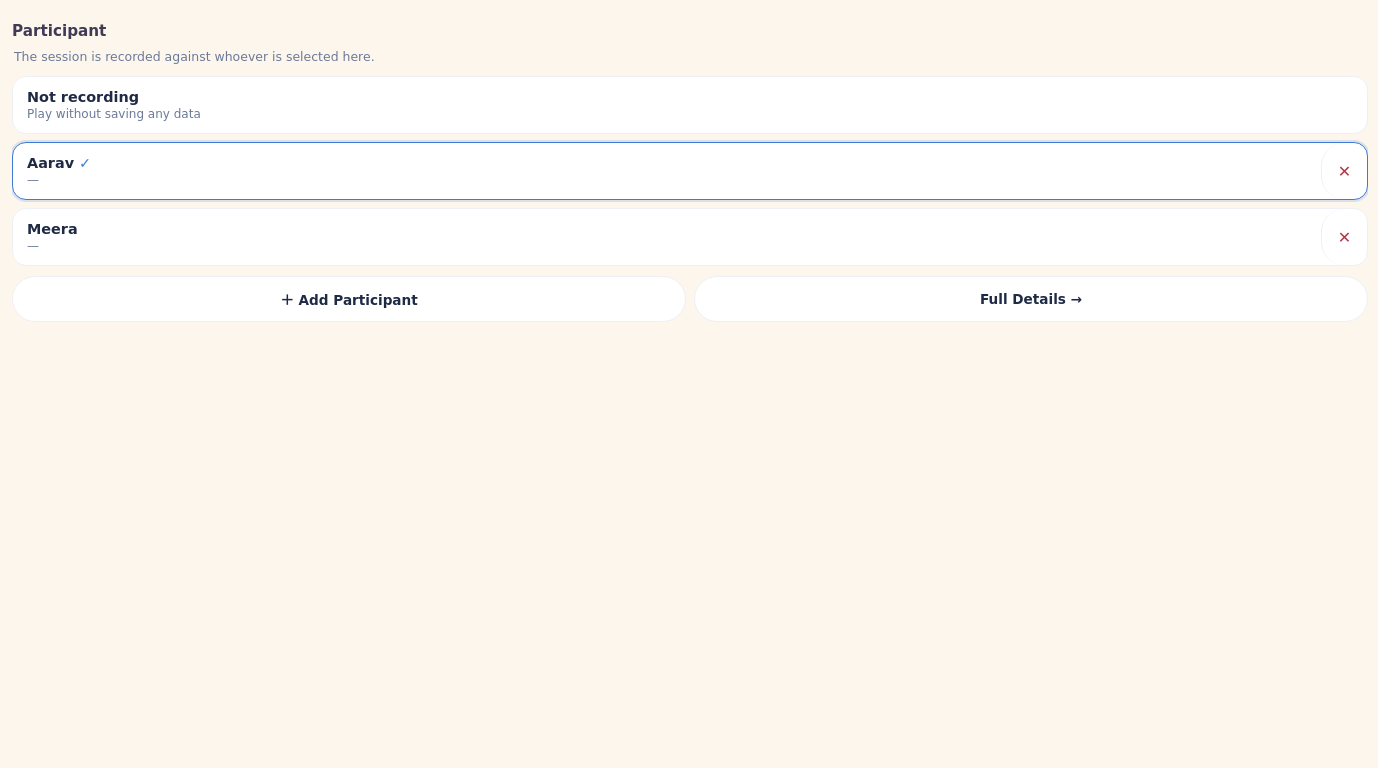
Test: adding a participant mid-session › will not save an empty name
Click the button "＋ Add participant" at (349, 299), box [12,276,686,322]
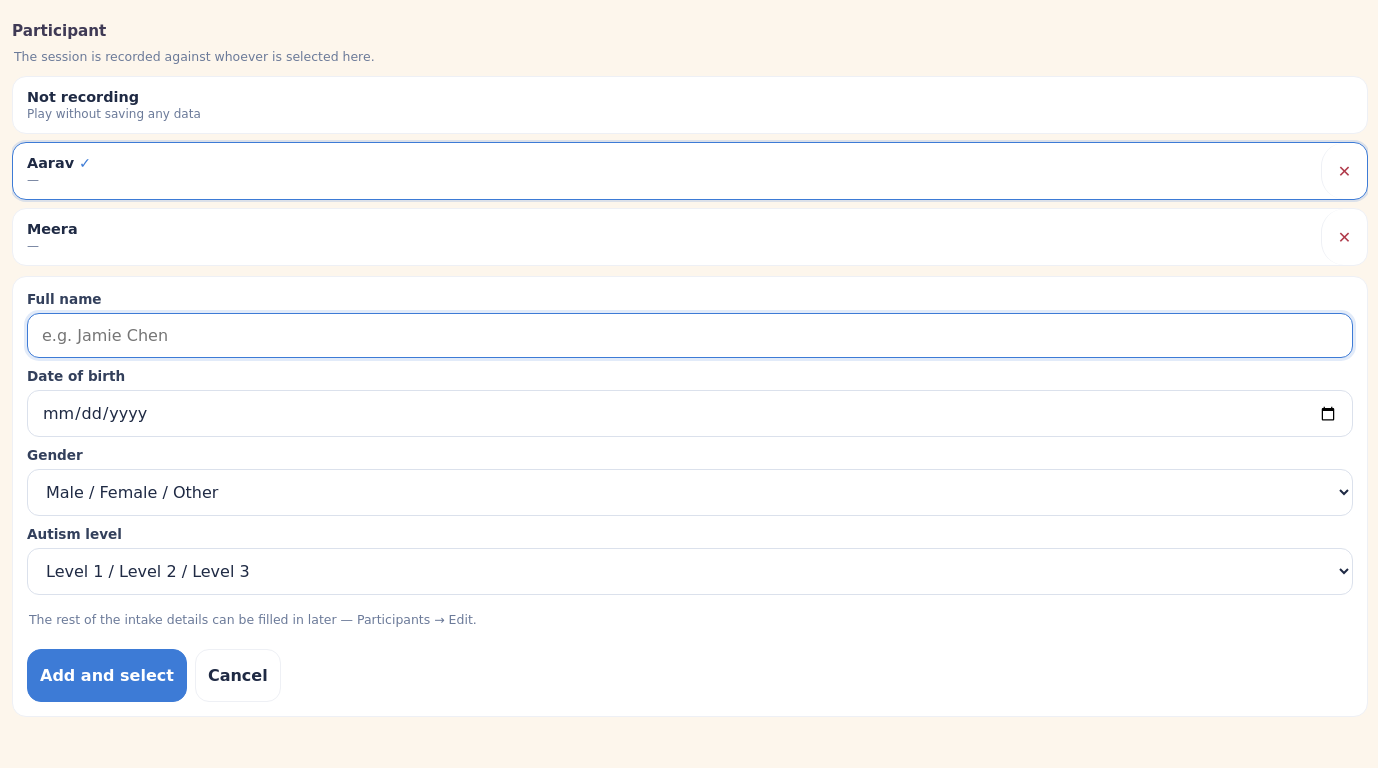
expect the button "Add and select" is disabled: met, box [27,649,187,702]
